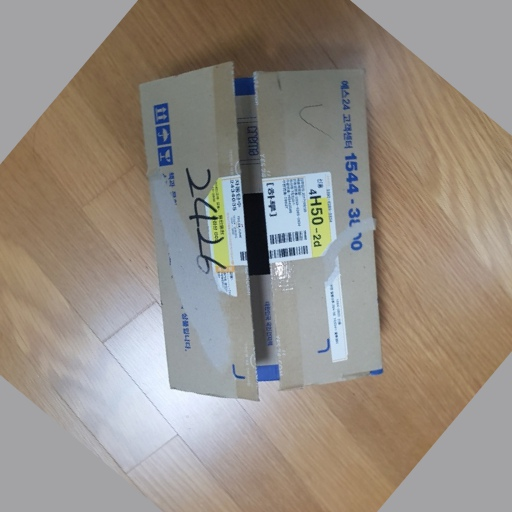Paper_0: (135, 63, 400, 407)
